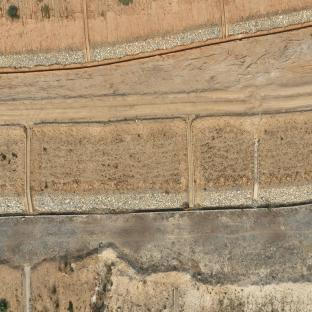rock_toe: (91, 26, 221, 60), (31, 191, 186, 209), (228, 9, 312, 36), (1, 50, 86, 67), (195, 189, 253, 205), (260, 185, 312, 202), (0, 198, 25, 210)
slope_drain: (0, 198, 312, 221), (24, 126, 33, 213), (186, 120, 194, 208), (82, 0, 91, 62), (253, 129, 259, 201), (220, 0, 227, 39), (173, 287, 178, 312)
